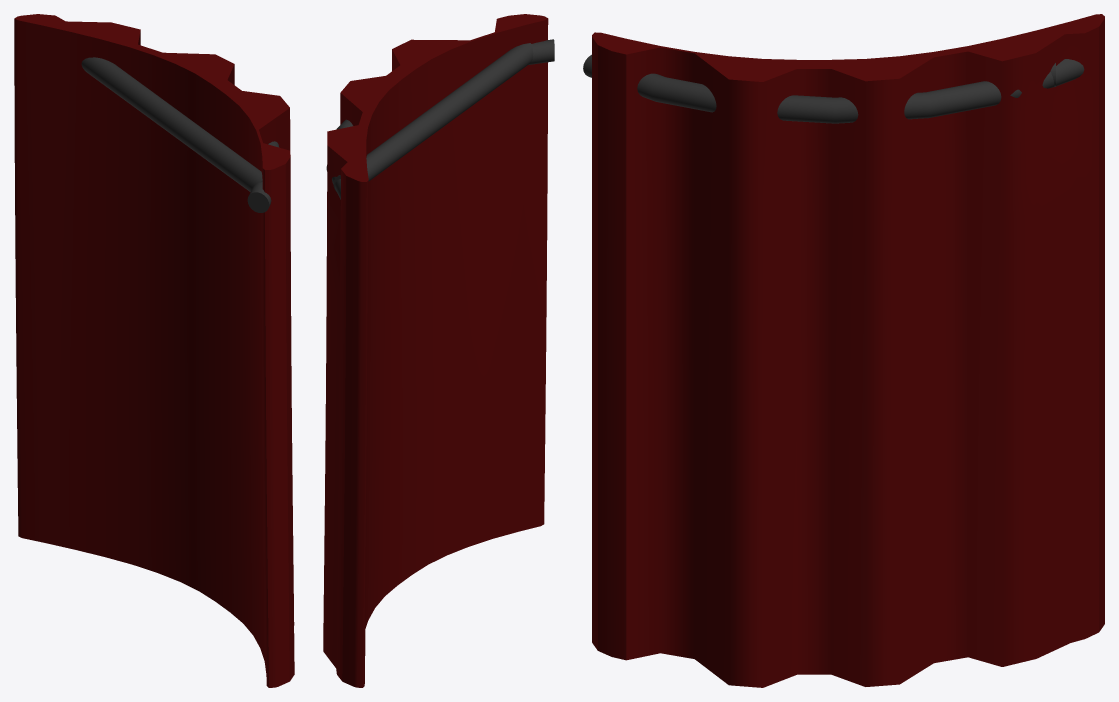
File: smallCurtain.fbx
3 renders of one model, left to right at view 1: azimuth 30°, elevation 25°; view 2: azimuth 150°, elevation 25°; view 3: azimuth 270°, elevation 25°, orthographic. The views are drawn at different scales.
Parts seen in each view (by area): view 1: pCylinder2; view 2: pCylinder2; view 3: pCylinder2.
Part boxes in pixels (box(x1,y1,x2,y2)): pCylinder2: box(14, 14, 294, 687); pCylinder2: box(323, 14, 554, 687); pCylinder2: box(583, 14, 1104, 687).
Bounding box in the file's own units: 1.29 × 5.16 × 4.04.
